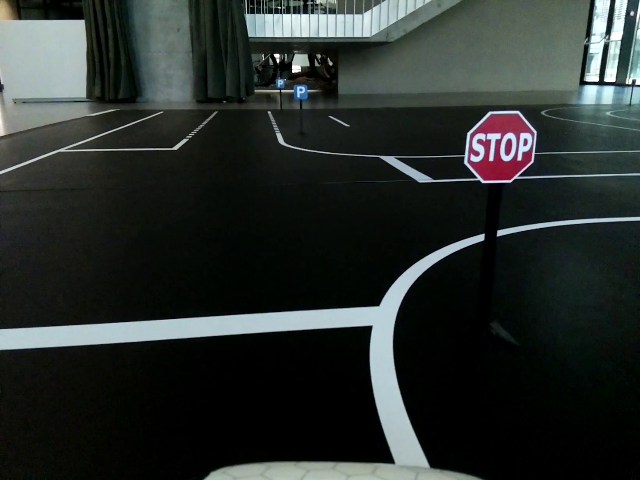stop: (461, 110, 537, 185)
